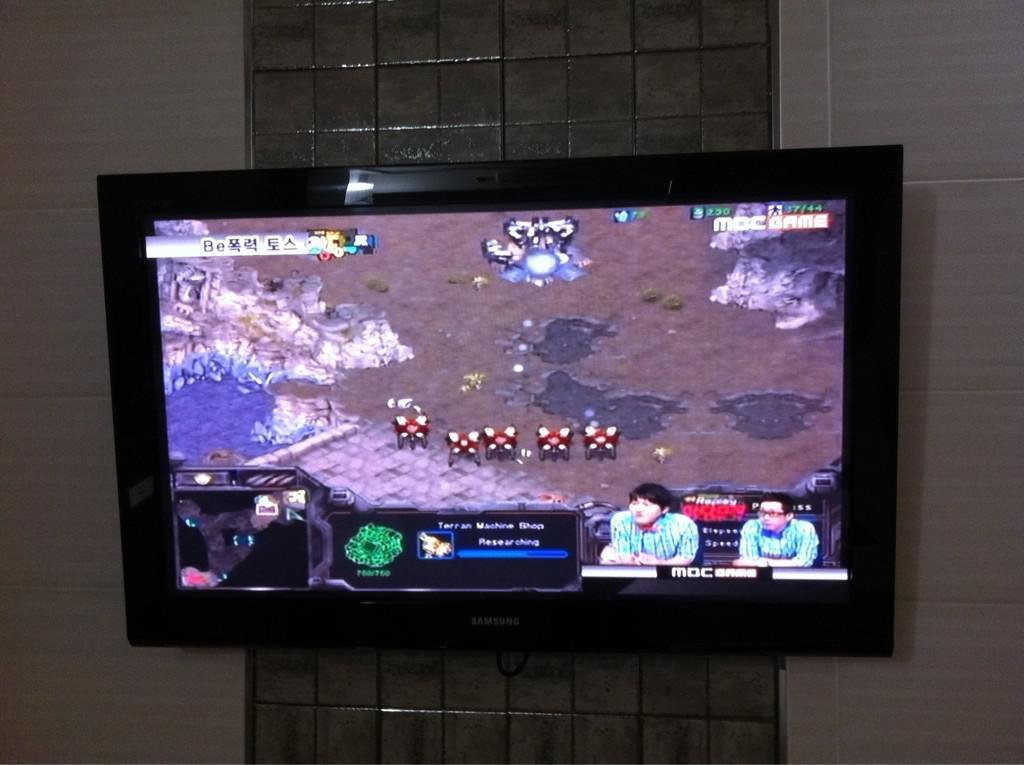Computer-monitor: (94, 143, 905, 658)
